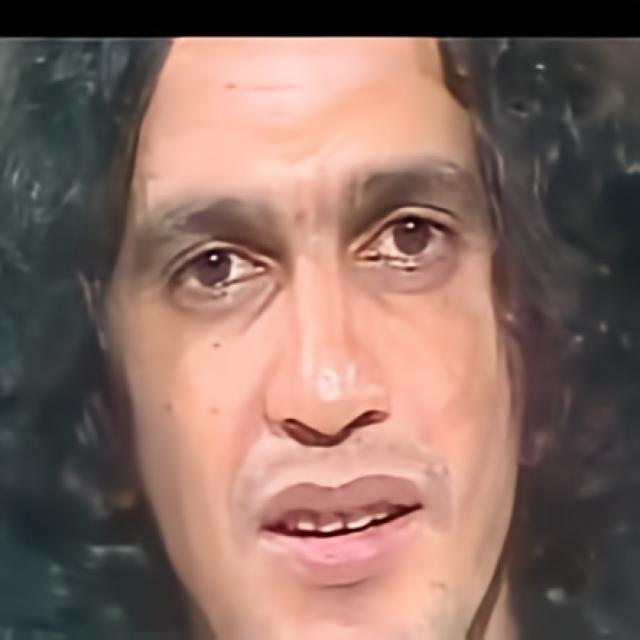disgust: (106, 35, 528, 640)
